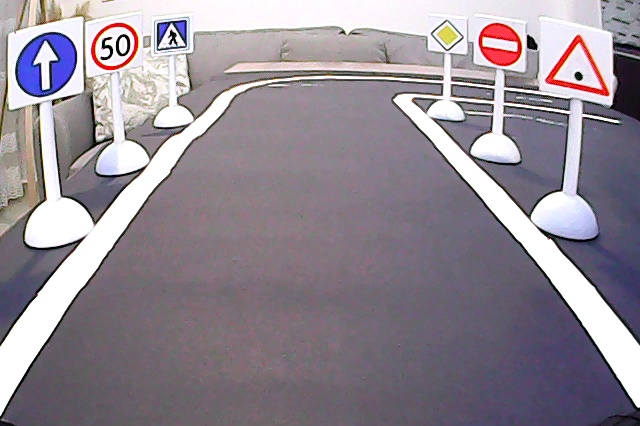do not enter: (476, 16, 527, 70)
green light: (541, 21, 610, 102)
pedestrian crossing: (154, 18, 192, 53)
speed limit 50: (87, 23, 143, 72)
